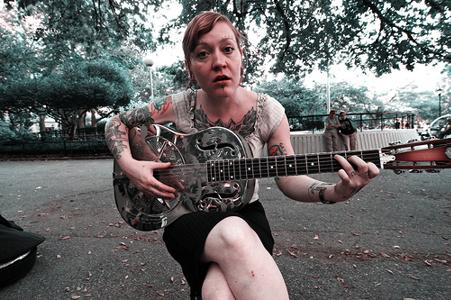person: (105, 13, 380, 299)
